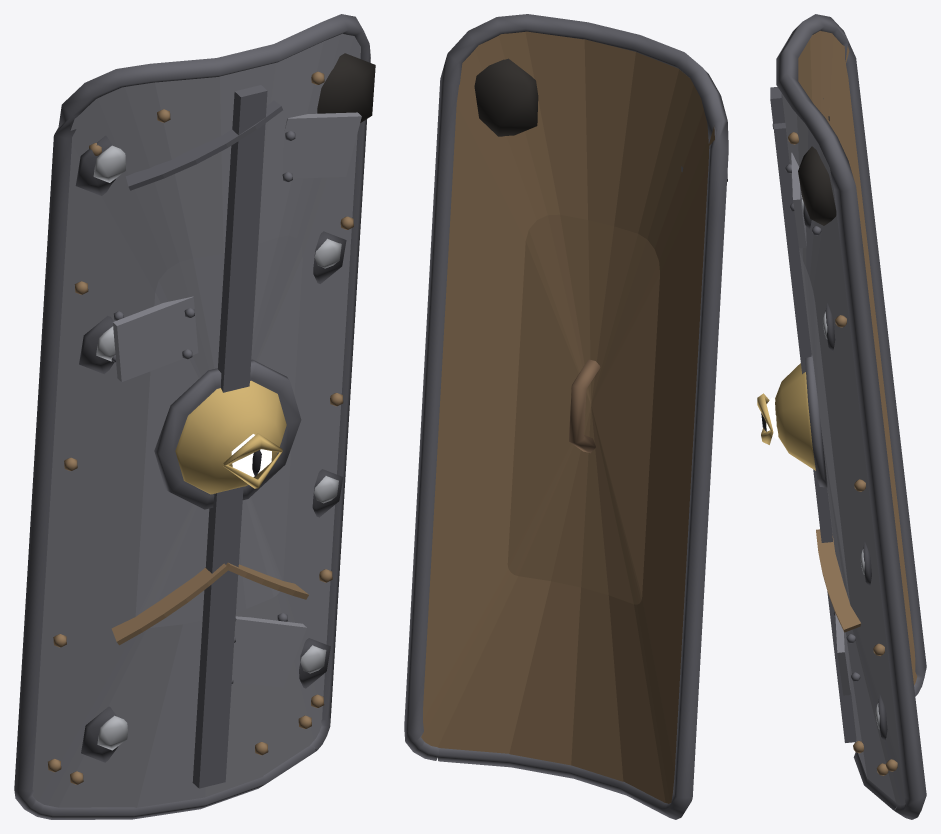
Rendered from shield-battered.glb.
3 views of the same model, side by side, from view 1: azimuth 30°, elevation 25°; view 2: azimuth 150°, elevation 25°; view 3: azimuth 270°, elevation 25° (orthographic). The views are drawn at different scales.
Parts seen in each view (by area): view 1: shield-battered; view 2: shield-battered; view 3: shield-battered.
Part boxes in pixels (x1=…): shield-battered: x1=14, y1=14, x2=375, y2=819; shield-battered: x1=404, y1=14, x2=728, y2=819; shield-battered: x1=757, y1=14, x2=926, y2=819.
Size of the model in its own units: 0.859 by 2.05 by 0.4461.
